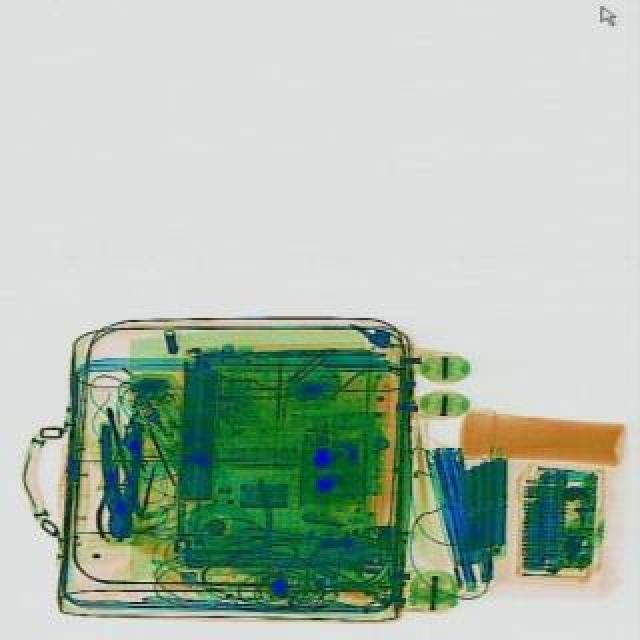wrench: (96, 424, 144, 538), (94, 464, 128, 540)
